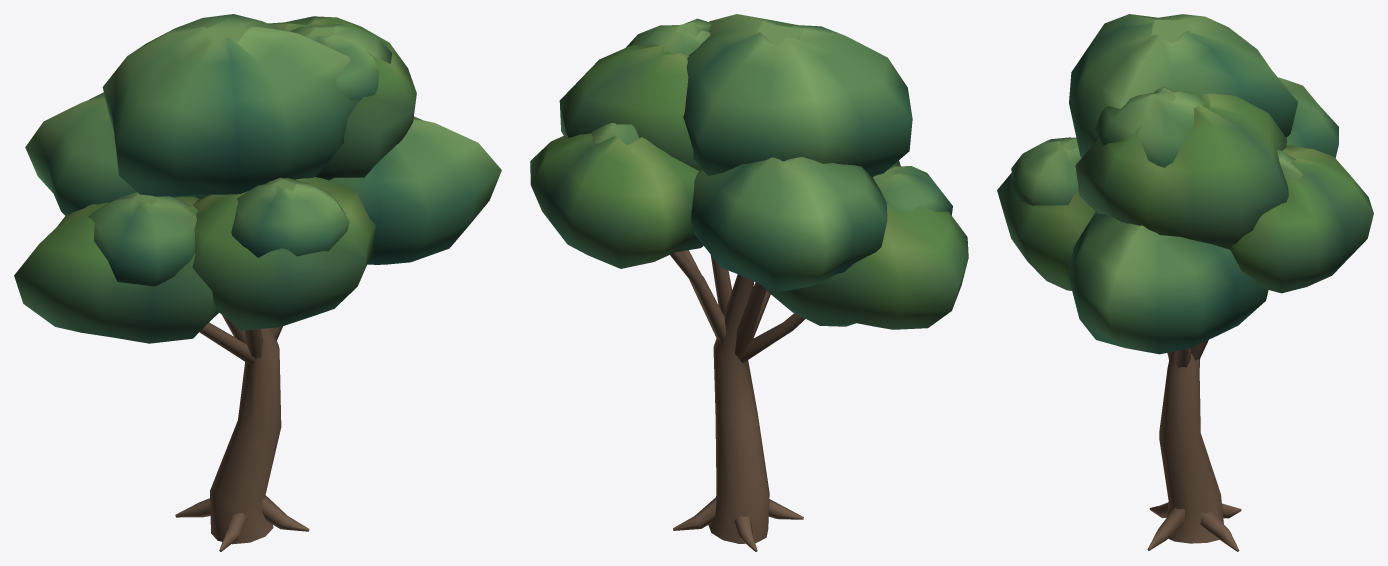
File: valley_foliage.glb
The picture shows the model from 3 angles, left to right: view 1: azimuth 30°, elevation 25°; view 2: azimuth 150°, elevation 25°; view 3: azimuth 270°, elevation 25°; orthographic projection. The views are drawn at different scales.
Parts seen in each view (by area): view 1: Foliage; view 2: Foliage; view 3: Foliage.
Part boxes in pixels (x1=…): Foliage: x1=14, y1=14, x2=501, y2=551; Foliage: x1=530, y1=14, x2=968, y2=551; Foliage: x1=997, y1=14, x2=1373, y2=551.
Size of the model in its own units: 3.93 by 4.43 by 3.03.
